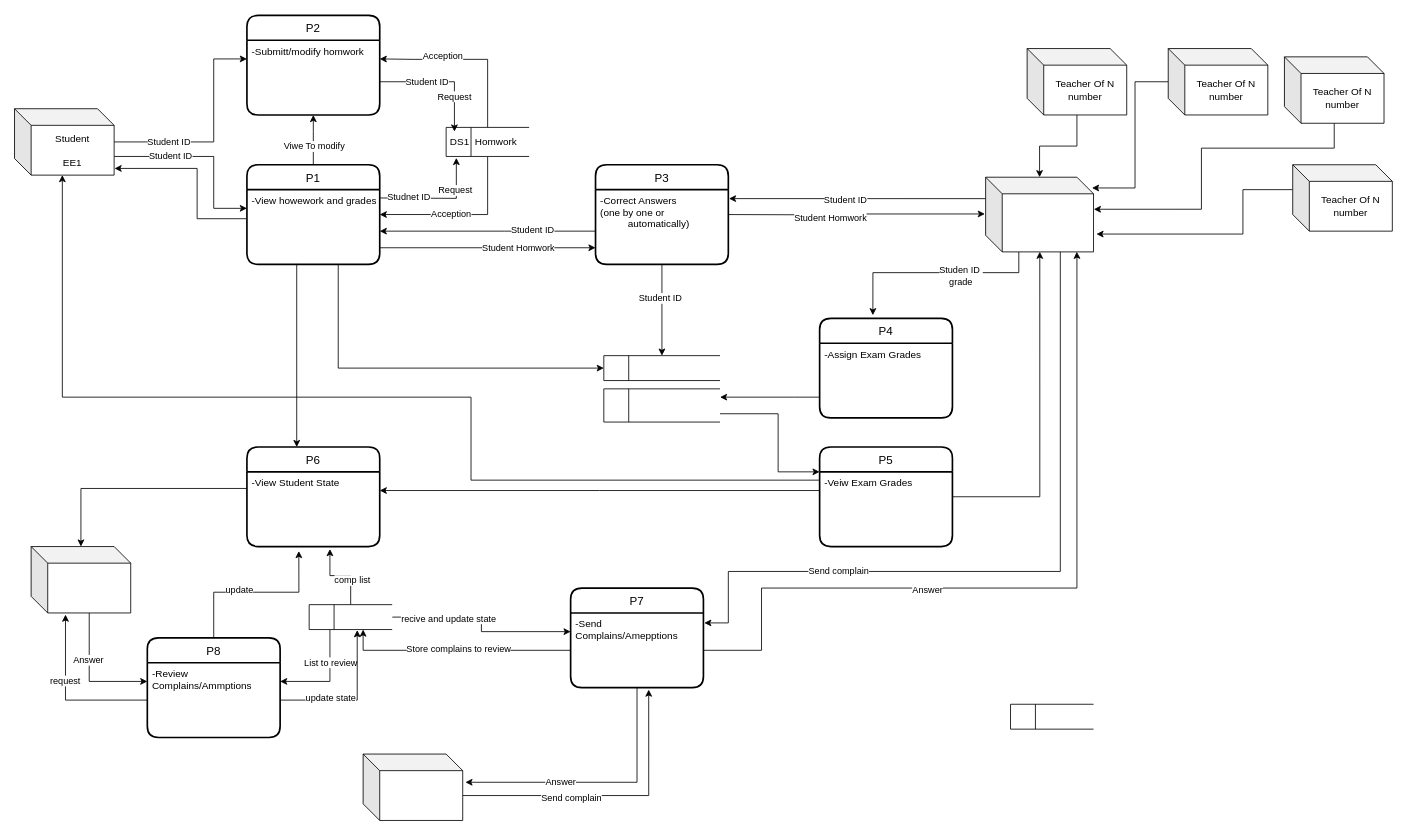
The diagram is 1407 pixels wide and 835 high, and some of its shapes have lost their labels. Each missing label, with the centre of its shape:
"DD3 Exam Grades" goes at (x=661, y=405).
"Department EE3" goes at (x=80, y=579).
"DS2 homwork Grades" goes at (x=661, y=368).
"DS4 Complains" goes at (x=350, y=617).
"DS5 Wallet" goes at (x=1052, y=716).
"Parent EE4" goes at (x=412, y=786).
"Teachers EE2" goes at (x=1039, y=214).
